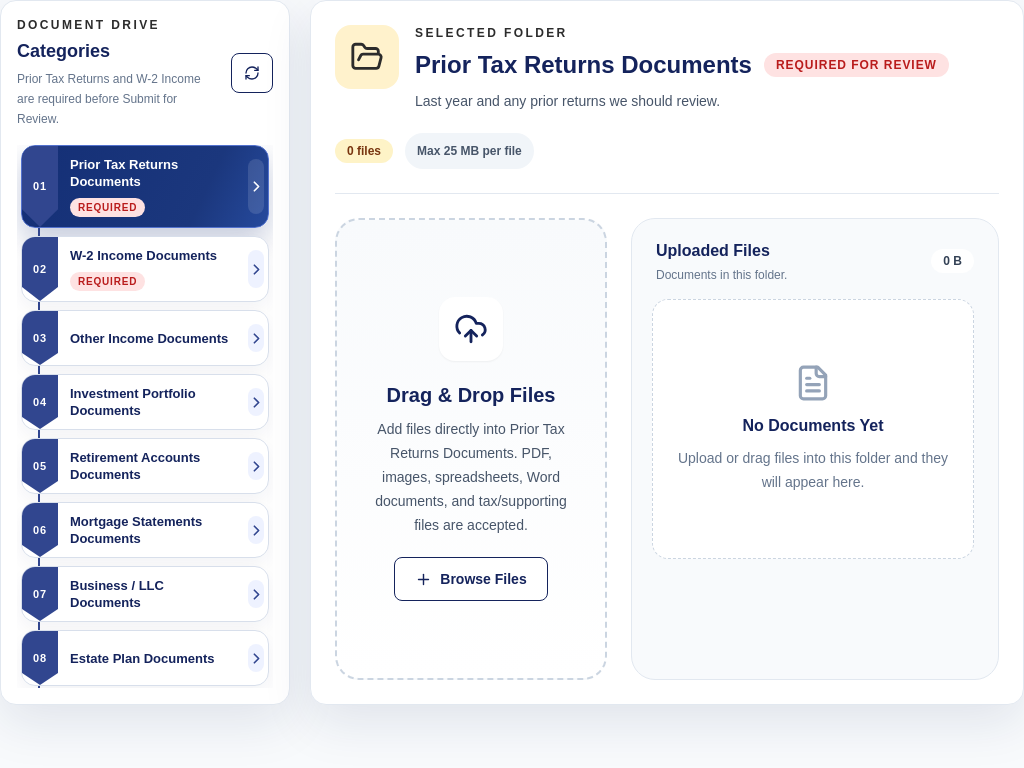
Scenario: PortalDocumentsClient category sequence › renders a compact ordered path without folder icons inside its tiles
Check: the text with class "document-sequence-marker" reads "01", box [33, 180, 47, 192]
Check: the list named "Suggested document upload order" does not show "0 files", box [17, 145, 273, 688]
Click the button with aria-label "Step 2 of 10: W-2 Income Documents": (145, 269) [21, 236, 269, 302]
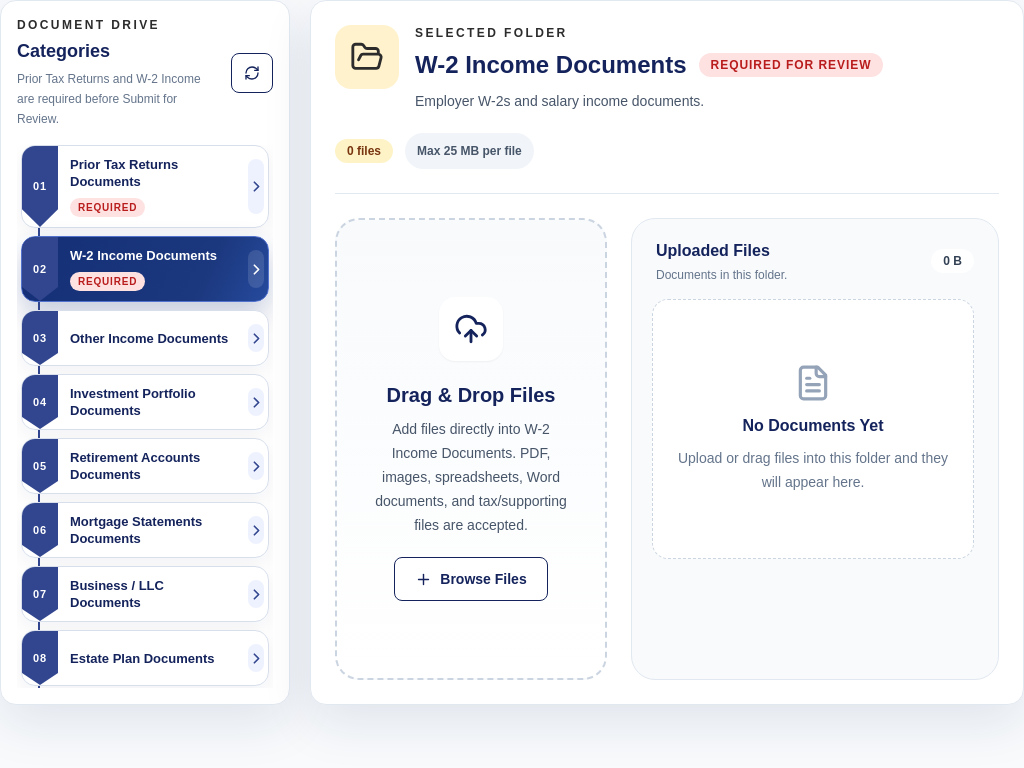
Check: the button named "Refresh document categories" is shown, box [231, 53, 273, 93]
Check: the heading "W-2 Income Documents" is shown, box [415, 49, 687, 81]
